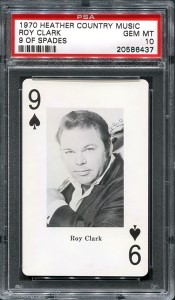NineOfSpades: (18, 77, 150, 278)
